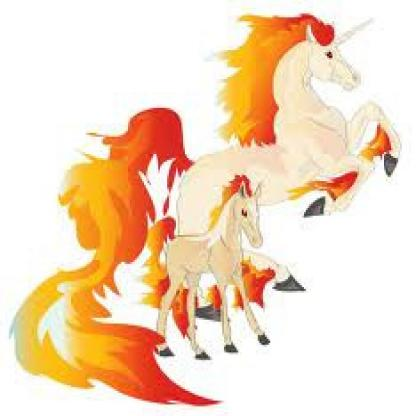Rapidash: (17, 3, 415, 413)
